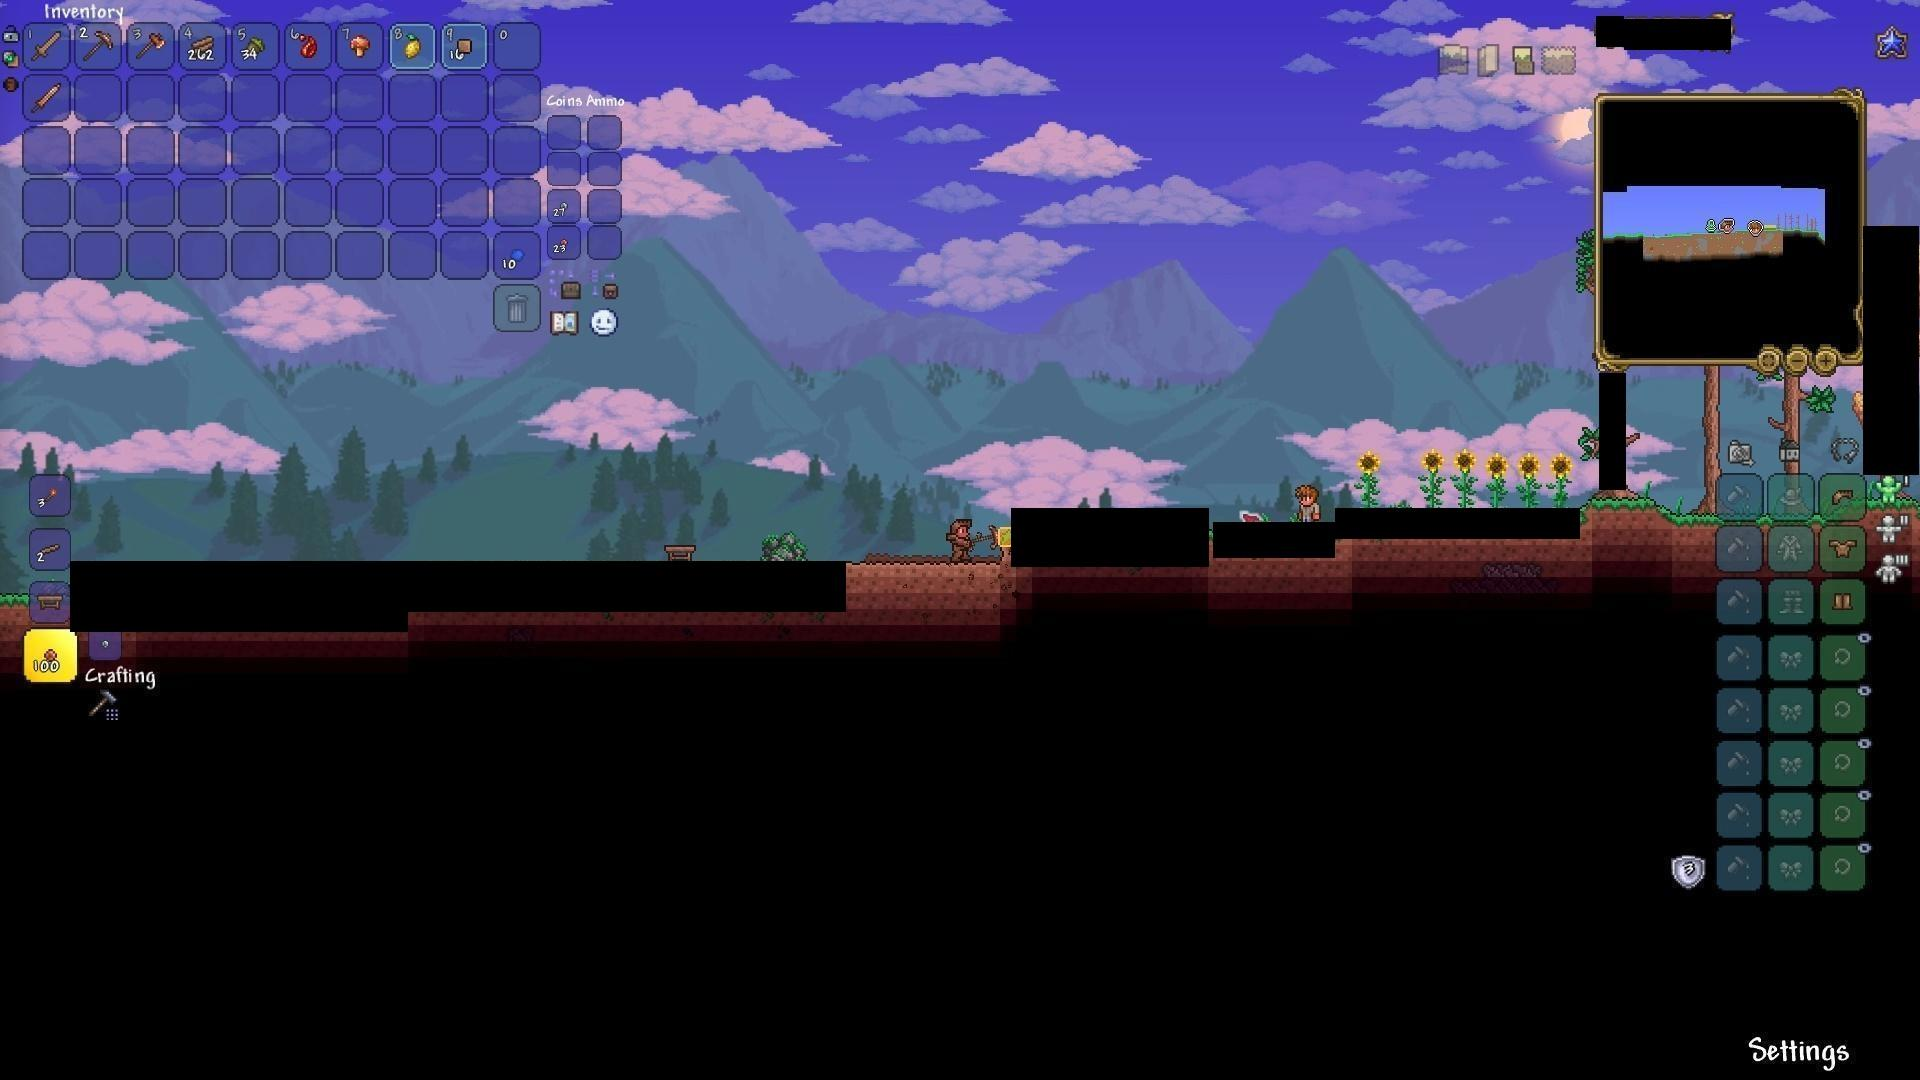breastplate: (1830, 537, 1859, 558)
dirt: (1577, 493, 1712, 527), (0, 578, 32, 622)
helmet: (1829, 483, 1857, 506)
legs: (1830, 588, 1855, 615)
wood: (189, 36, 214, 62)
workbench: (32, 589, 69, 616), (662, 542, 699, 567)
